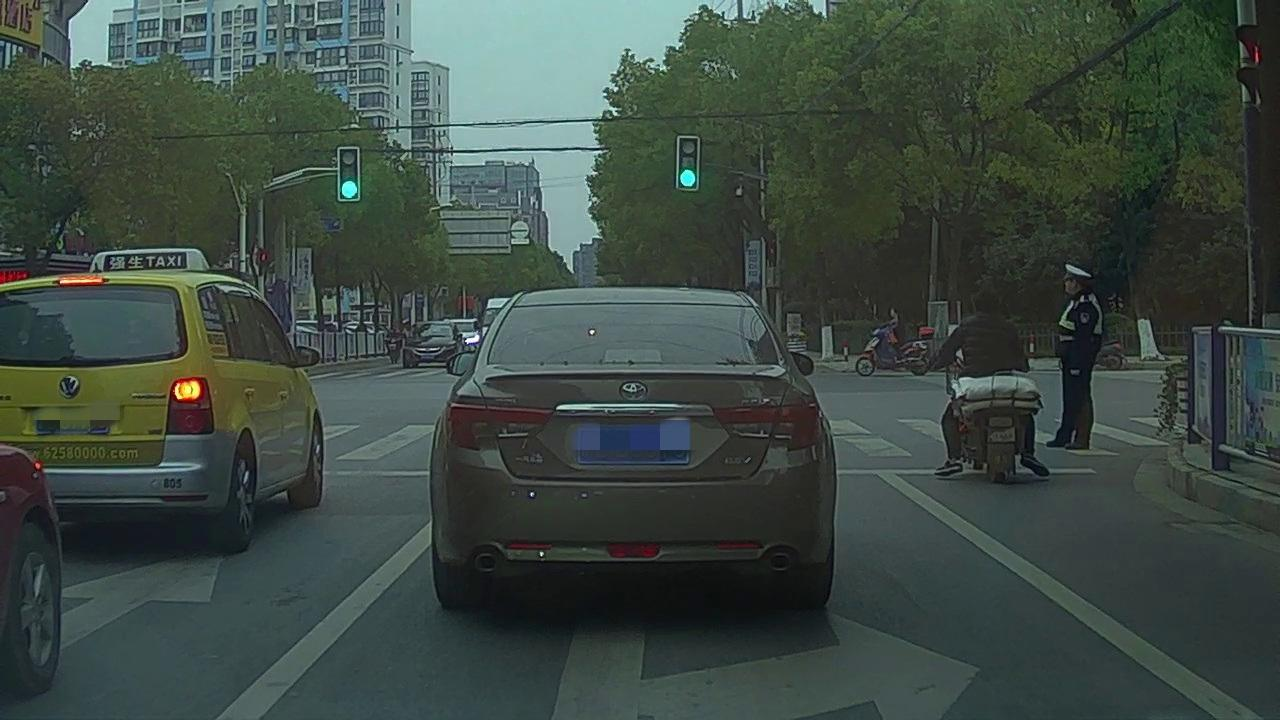traffic_light: (678, 139, 699, 187), (339, 148, 358, 199)
